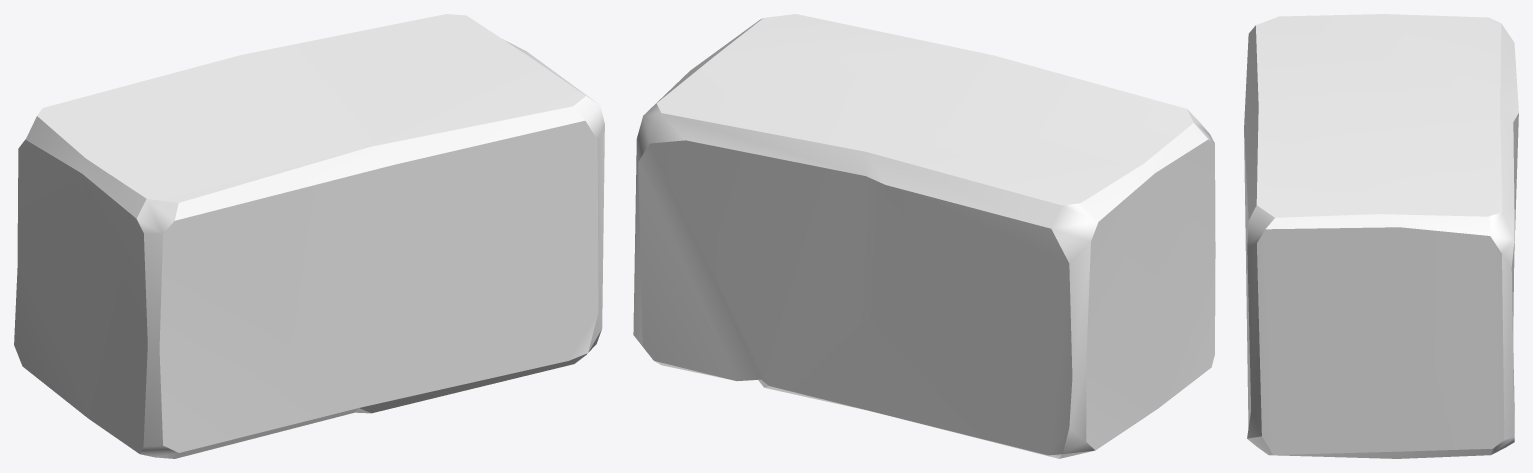
Rendered from Prop_IceBlockHorizontalNe.glb.
The picture shows the model from 3 angles, left to right: view 1: azimuth 30°, elevation 25°; view 2: azimuth 150°, elevation 25°; view 3: azimuth 270°, elevation 25°; orthographic projection. The views are drawn at different scales.
Parts seen in each view (by area): view 1: Prop_IceBlockHorizontalNe; view 2: Prop_IceBlockHorizontalNe; view 3: Prop_IceBlockHorizontalNe.
Boxes of the visible parts, x1,y1,x2,y2 form: Prop_IceBlockHorizontalNe: (14,14,604,458); Prop_IceBlockHorizontalNe: (633,14,1215,458); Prop_IceBlockHorizontalNe: (1244,14,1518,458).
Bounding box in the file's own units: 1 × 0.5544 × 0.5524.
1 material, 1 textured.
